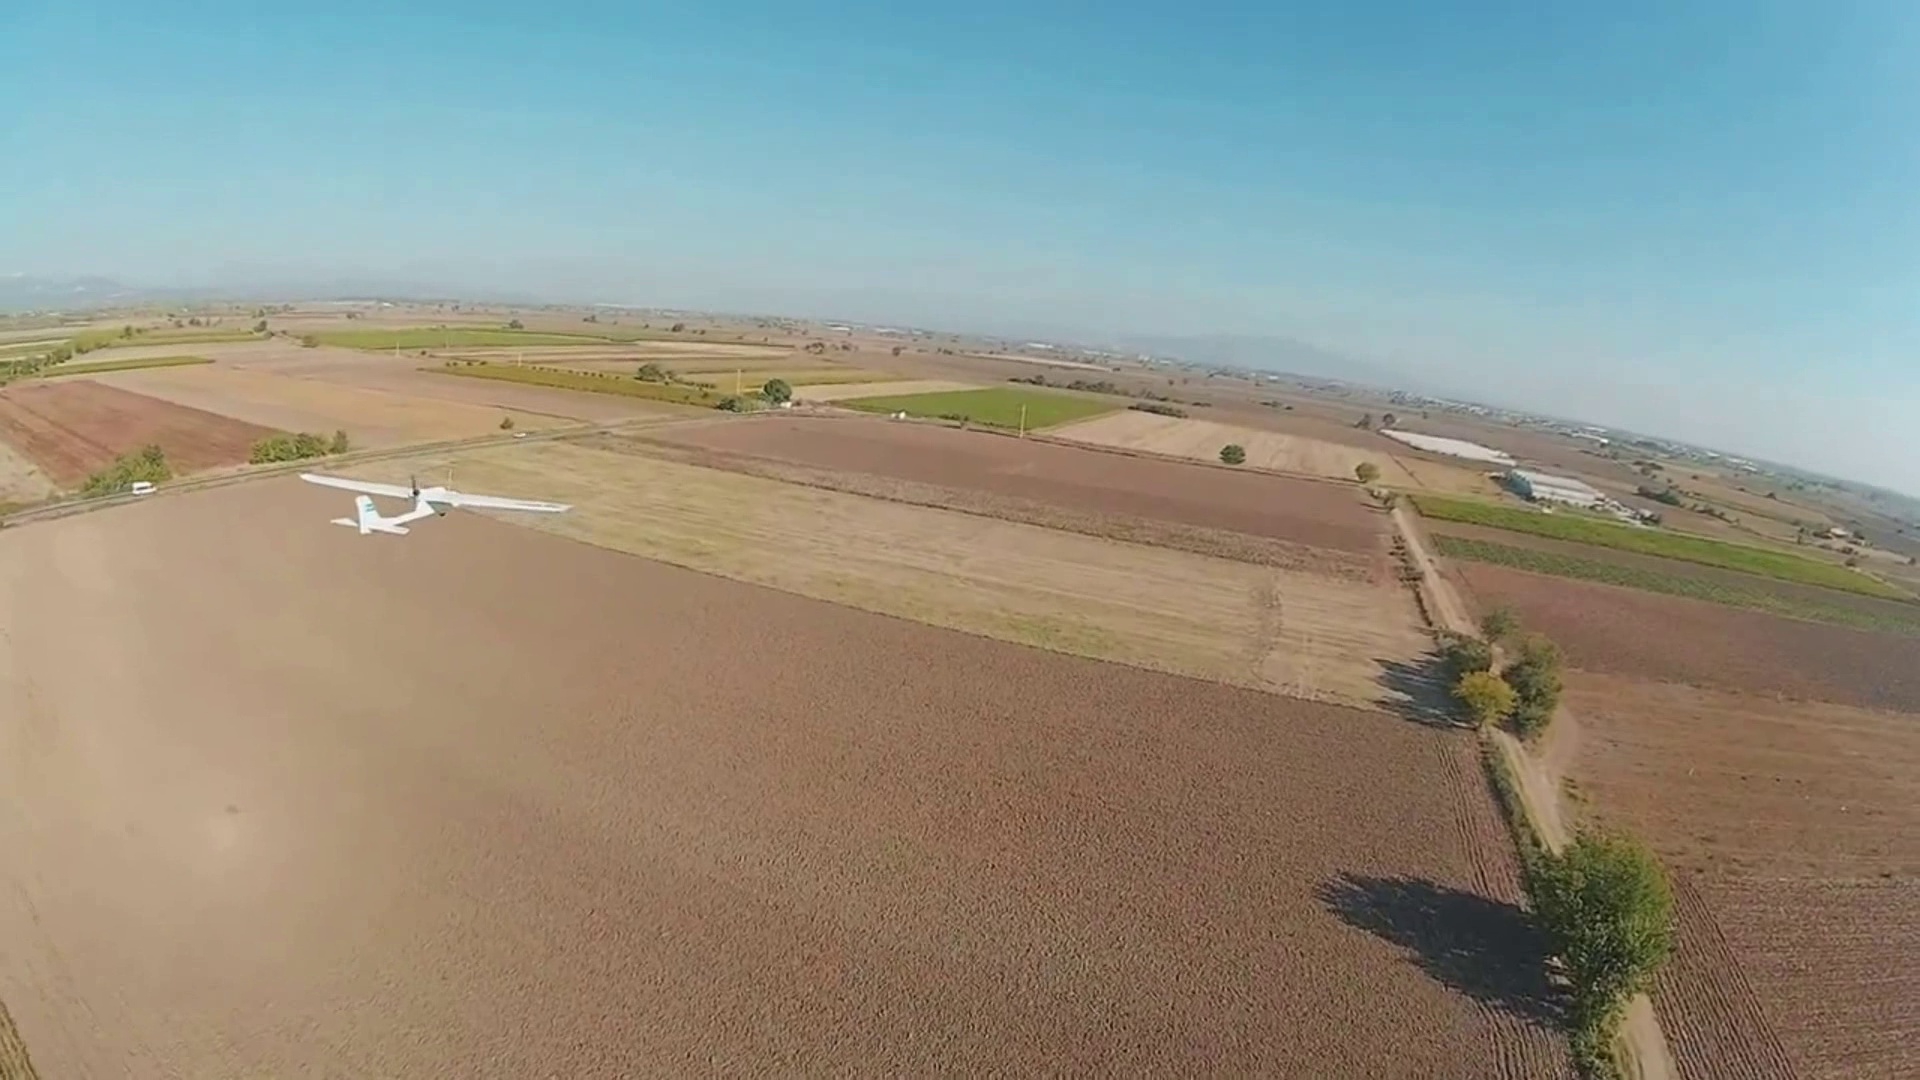airplane: (299, 470, 574, 534)
